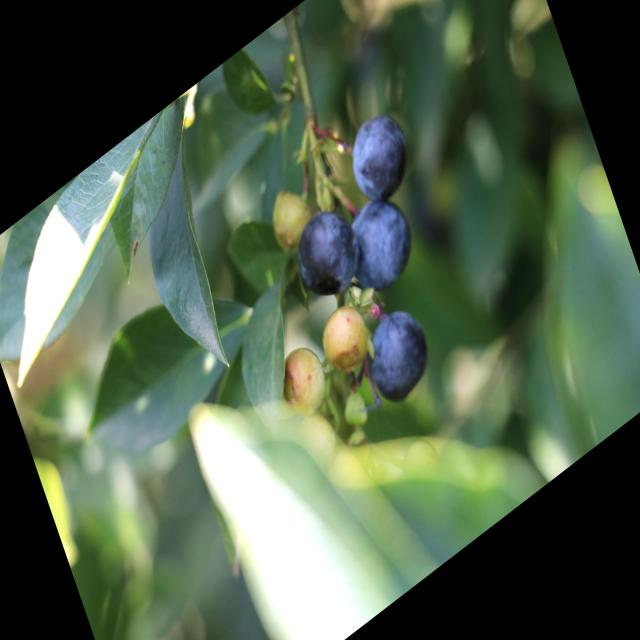blueberry: (353, 290, 442, 420), (339, 178, 424, 304), (286, 192, 369, 314), (338, 97, 421, 216)
blueberry-unripe: (271, 332, 332, 424), (314, 291, 375, 381), (265, 174, 315, 248)
